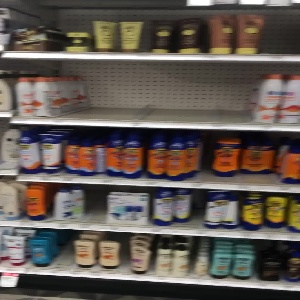void: (79, 61, 253, 123), (263, 7, 300, 57), (52, 231, 76, 273), (82, 186, 109, 222)
